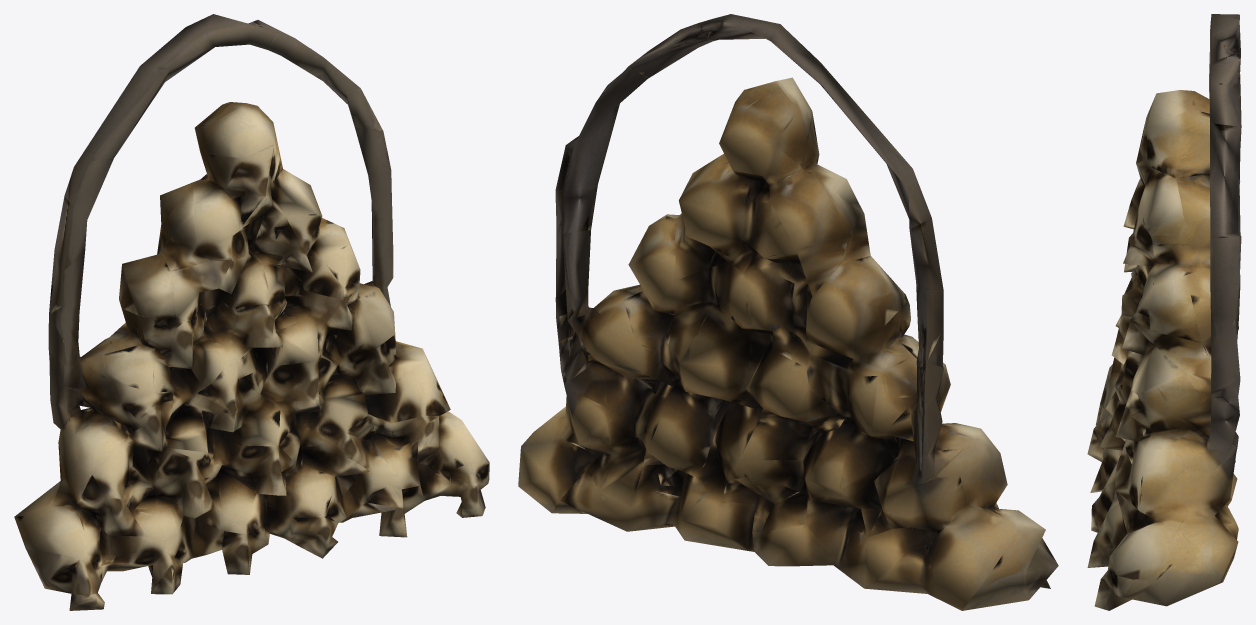
The model's file is skull_stack.glb.
The picture shows the model from 3 angles, left to right: view 1: azimuth 30°, elevation 25°; view 2: azimuth 150°, elevation 25°; view 3: azimuth 270°, elevation 25°; orthographic projection. The views are drawn at different scales.
Size of the model in its own units: 1.87 by 2 by 0.5665.
Materials: 1 (1 with a texture image).
